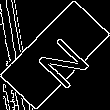N_NW: (22, 23, 88, 87)
